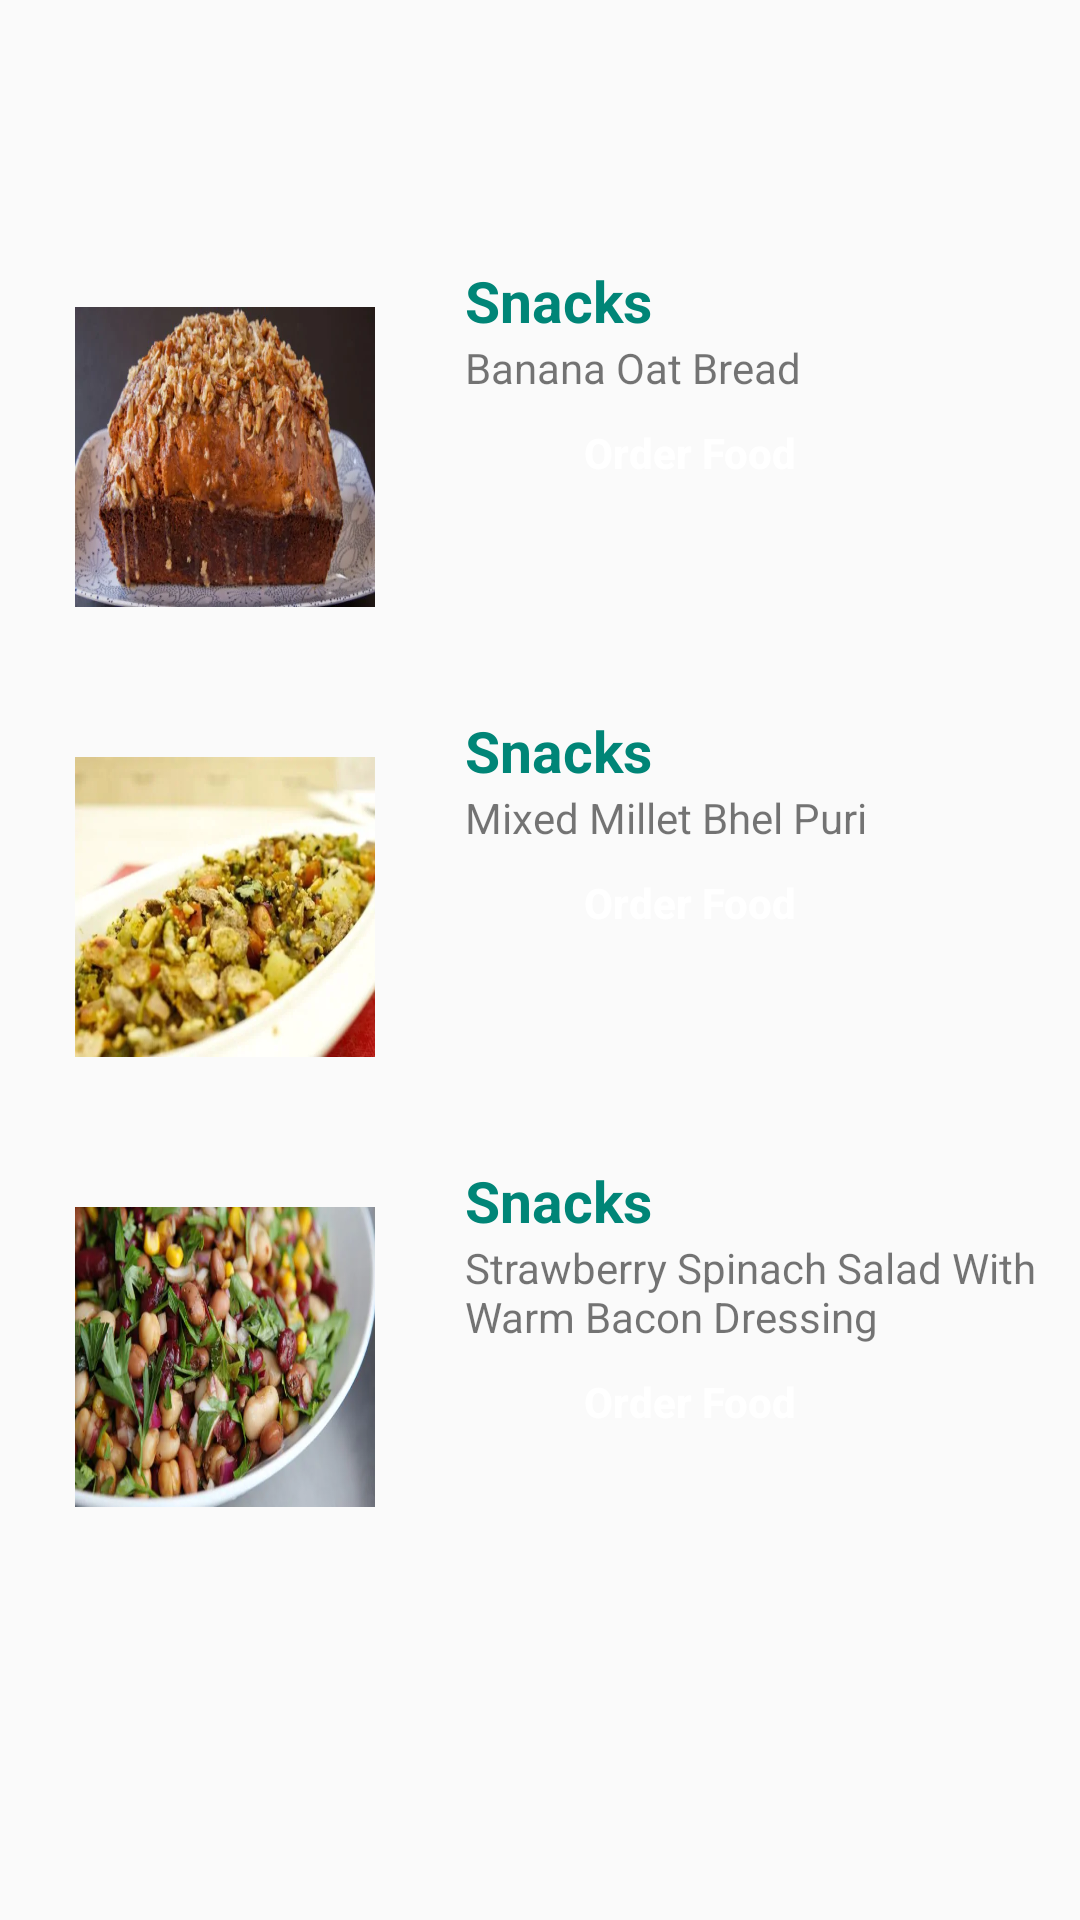

Icons on this 1080*1920 Android screen, each with its box as (x1, y1, x2, y2):
threebeanchaat: (75, 1207, 375, 1507)
